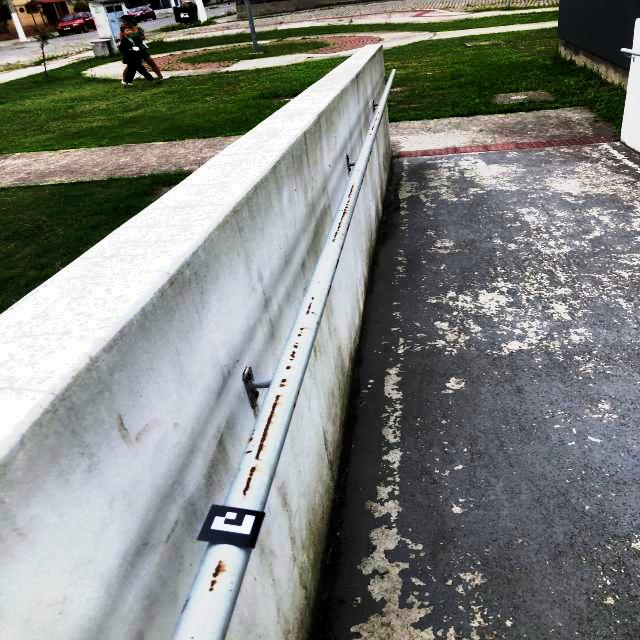Corrosion: (255, 394, 283, 460), (212, 559, 226, 578), (242, 477, 252, 499), (337, 211, 347, 230), (347, 182, 355, 198), (305, 301, 313, 315), (278, 378, 289, 388), (209, 580, 217, 592), (248, 466, 256, 477), (289, 351, 296, 361), (293, 341, 300, 349), (327, 285, 331, 297), (335, 259, 339, 270), (286, 364, 293, 370), (300, 327, 309, 331), (247, 372, 251, 380), (244, 451, 253, 454), (347, 223, 350, 232), (248, 437, 253, 442), (334, 231, 338, 237), (346, 155, 349, 163), (255, 391, 258, 398), (245, 378, 248, 384), (375, 117, 378, 123), (372, 125, 375, 131), (251, 397, 253, 405), (361, 178, 363, 186), (297, 334, 302, 337), (341, 245, 344, 250), (294, 403, 296, 410), (248, 390, 251, 394), (311, 296, 314, 300), (344, 206, 348, 209), (326, 257, 329, 260), (332, 239, 335, 242), (347, 200, 350, 203), (311, 312, 315, 314), (343, 209, 347, 211), (346, 204, 350, 206), (359, 187, 361, 191), (191, 637, 194, 639), (300, 331, 303, 333), (357, 169, 359, 172), (377, 112, 380, 114), (316, 322, 318, 324), (336, 230, 340, 231), (339, 210, 343, 211), (298, 391, 299, 394), (317, 282, 320, 283), (334, 237, 336, 238), (362, 155, 364, 156), (370, 134, 372, 135), (374, 123, 375, 125), (369, 138, 370, 139), (302, 323, 304, 323), (305, 323, 305, 324)
